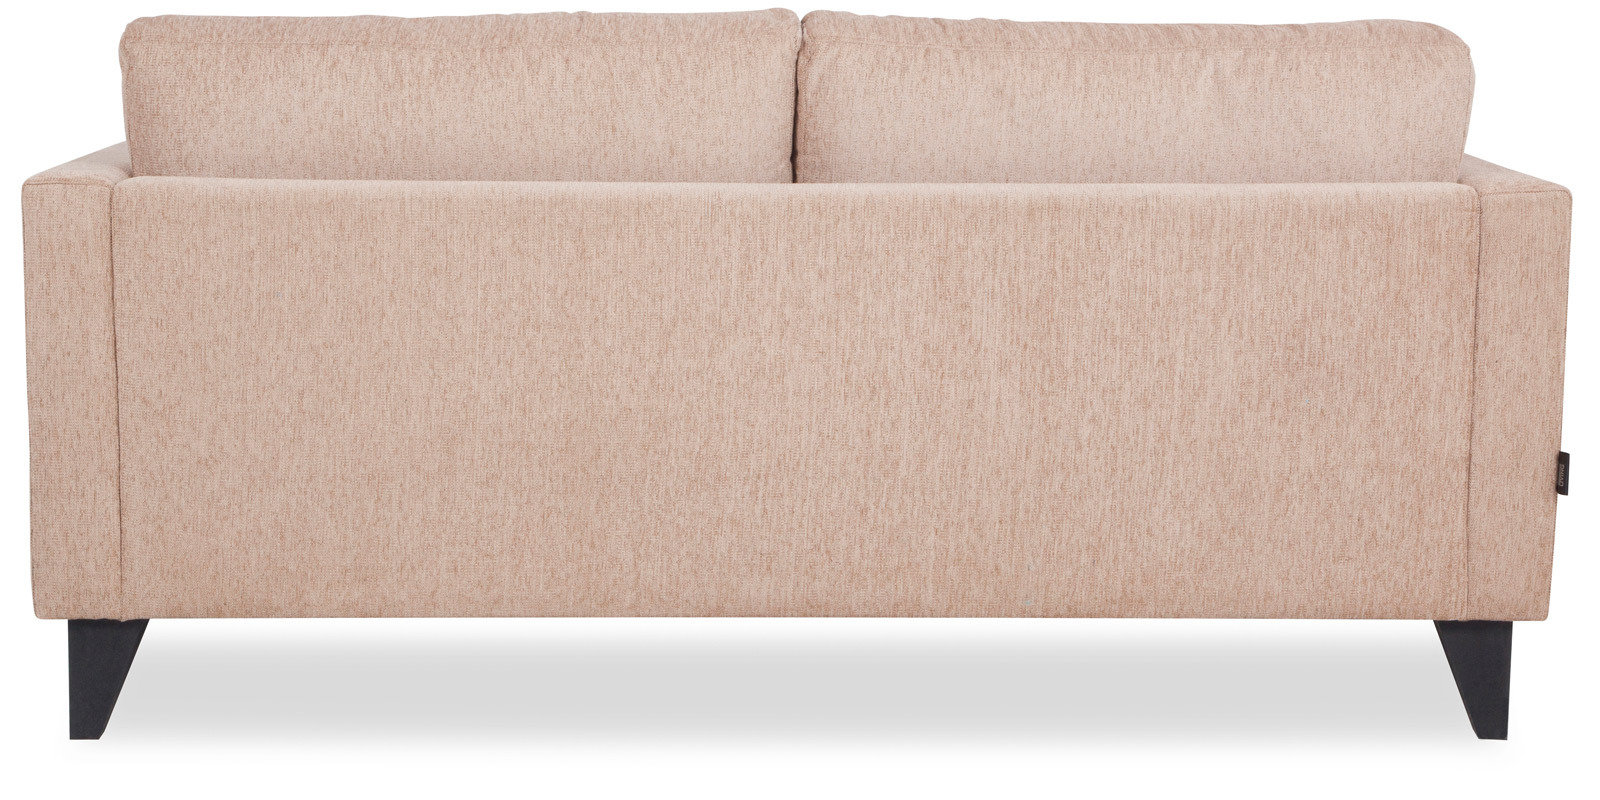Greenwich Three Seater Sofa in Beige Colour by Urban Living: (18, 6, 1579, 777)
